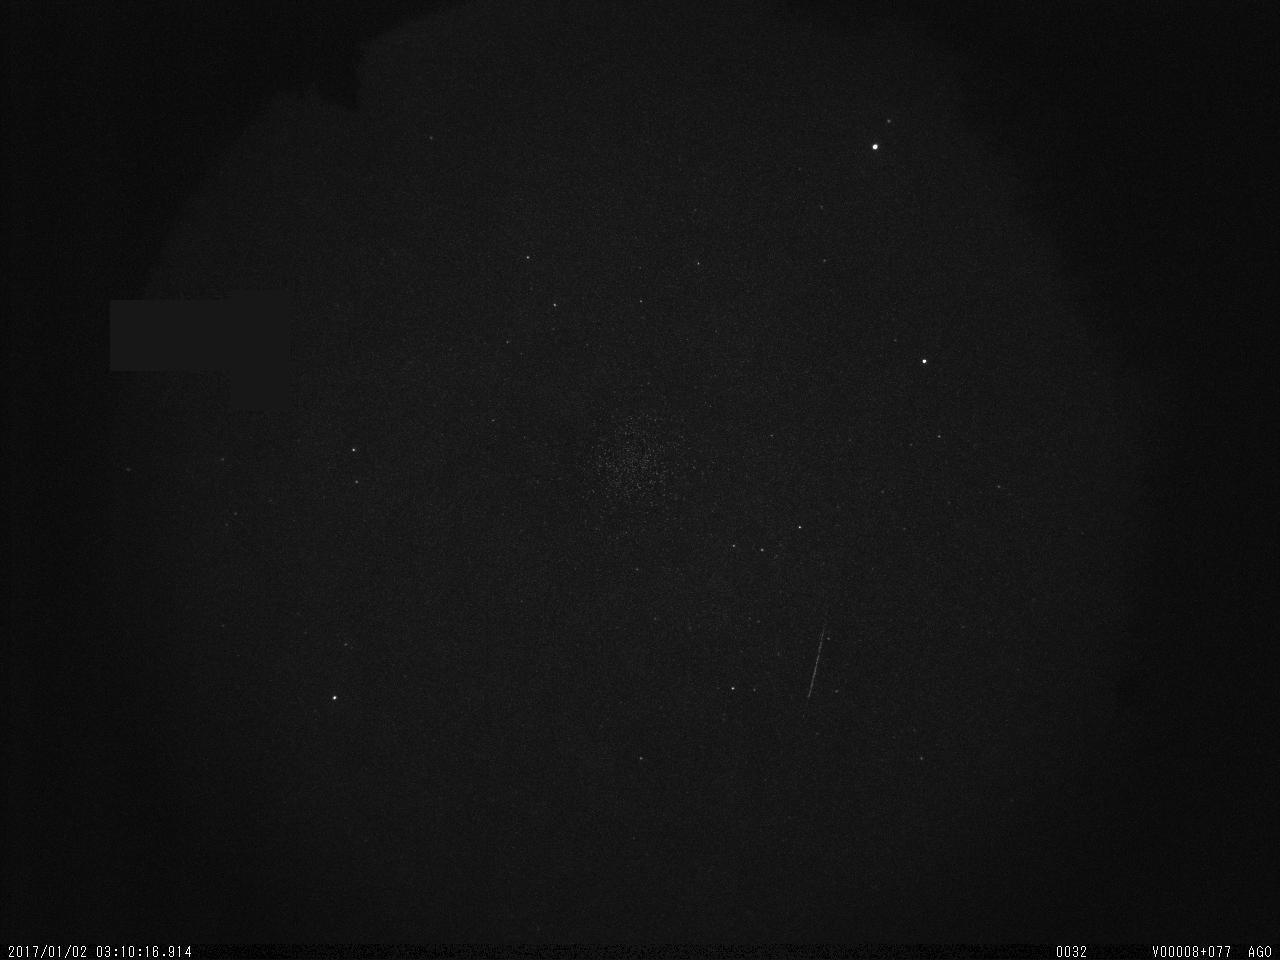Meteor: (800, 624, 831, 702)
